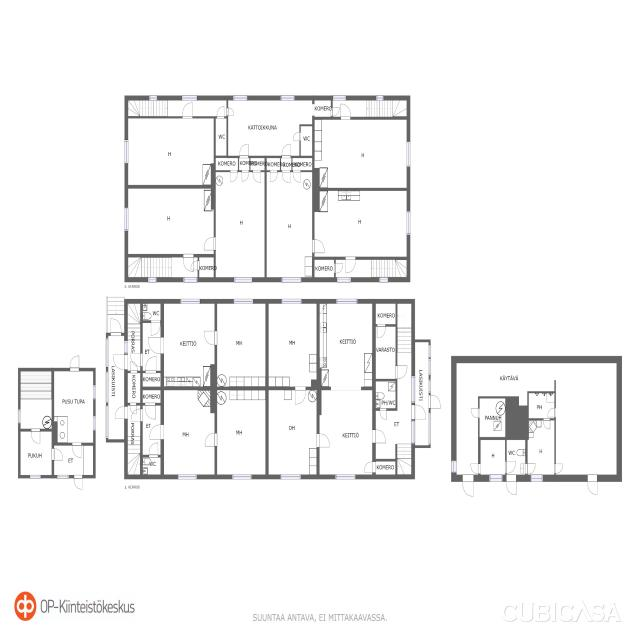door: (148, 337, 164, 353), (148, 424, 164, 440), (463, 474, 474, 496), (110, 317, 122, 336), (411, 404, 425, 420), (506, 474, 516, 495), (588, 474, 598, 494), (295, 386, 306, 404), (183, 254, 194, 272), (114, 355, 128, 369), (182, 102, 193, 119), (114, 406, 128, 419), (204, 331, 217, 345), (312, 239, 325, 253), (145, 357, 156, 373), (316, 434, 329, 447), (145, 403, 155, 419), (346, 257, 356, 273), (52, 401, 64, 414), (130, 354, 143, 366), (372, 430, 385, 442), (204, 237, 216, 250), (395, 366, 407, 378), (205, 434, 217, 446), (341, 104, 350, 120), (131, 408, 142, 421), (72, 443, 82, 457), (376, 324, 386, 338), (70, 356, 79, 371), (151, 320, 160, 335), (364, 461, 376, 472), (429, 396, 440, 408), (74, 474, 82, 490), (31, 429, 40, 443), (149, 443, 158, 457), (52, 449, 63, 460), (505, 461, 515, 473), (240, 144, 248, 158), (282, 144, 290, 158), (74, 446, 84, 457), (240, 170, 248, 183), (253, 170, 261, 183), (282, 170, 290, 183), (293, 170, 301, 183), (525, 464, 535, 474), (230, 170, 238, 182), (380, 408, 387, 421), (217, 105, 224, 118), (508, 448, 515, 460), (270, 170, 277, 182), (472, 464, 481, 473), (471, 409, 480, 418), (554, 464, 563, 473), (190, 261, 199, 270), (334, 264, 343, 273), (67, 374, 75, 384), (75, 463, 83, 473), (543, 418, 550, 429), (548, 408, 556, 417), (331, 108, 339, 116), (226, 108, 234, 115), (293, 132, 300, 140), (66, 428, 73, 435)
